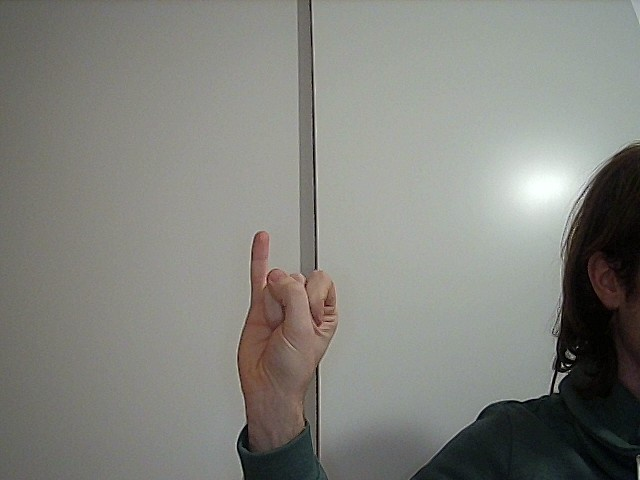i: (223, 227, 355, 404)
